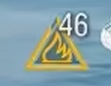1fire: (24, 41, 89, 71)
